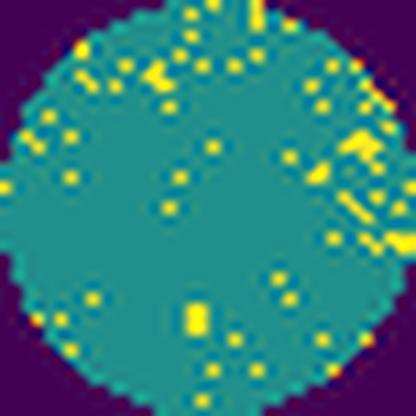Loc: (334, 129, 390, 179), (180, 302, 210, 336)
